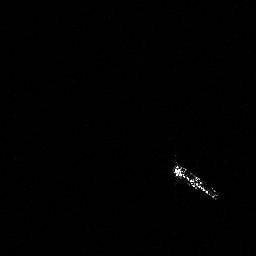ship: (169, 152, 222, 204)
